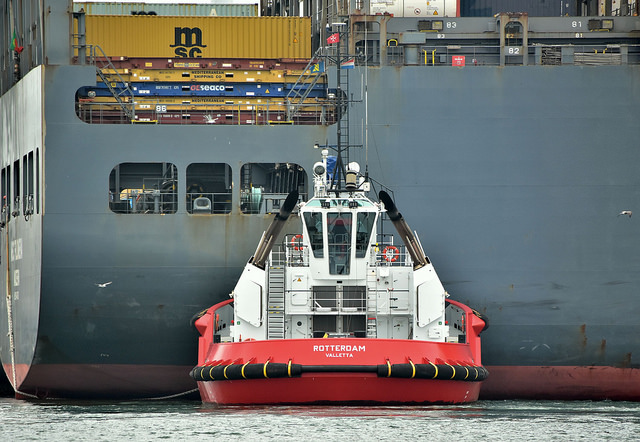tug_boat: (188, 121, 491, 402)
